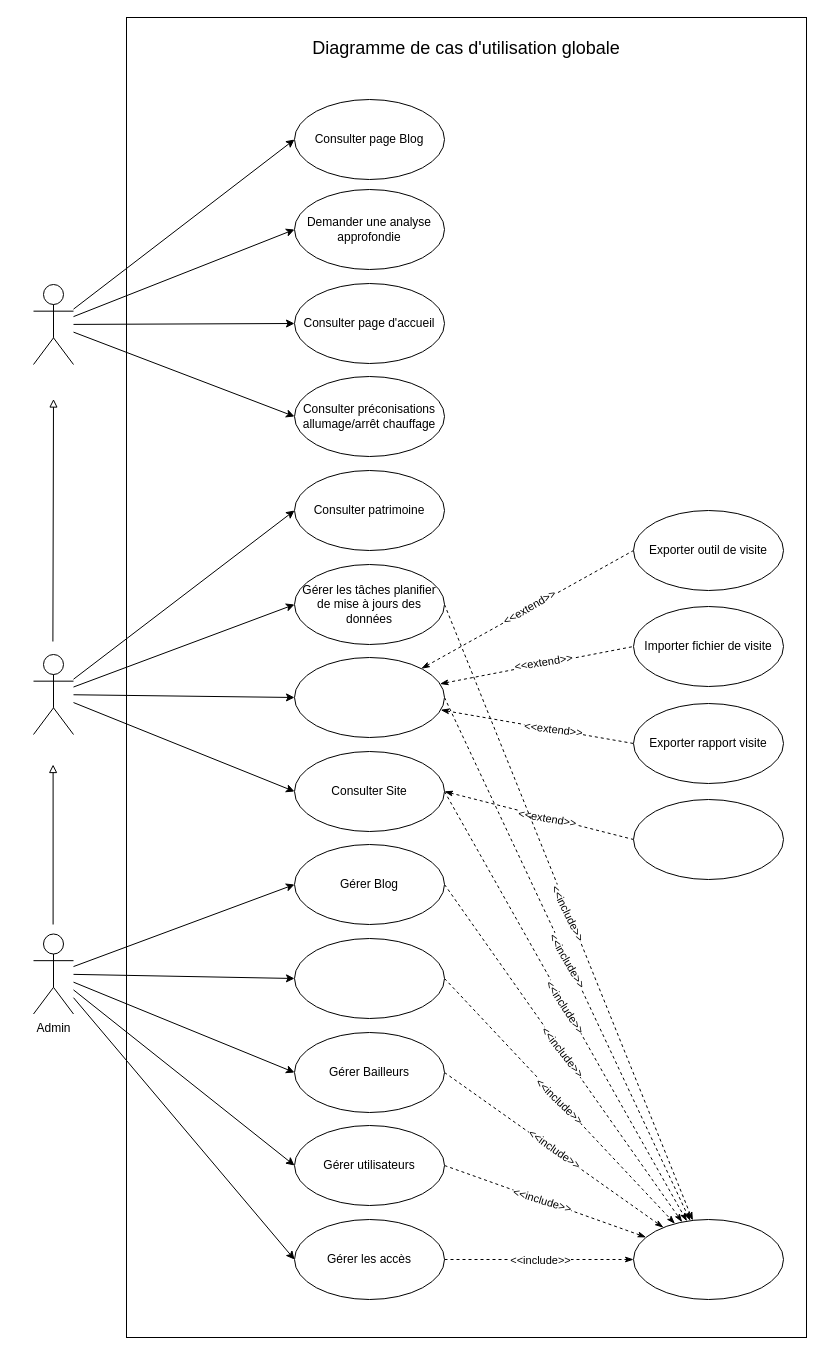
Some shapes in this 824 by 1355 pixel diagram are drawn without their labels. The shapes that lost their labels are listed below. From the top down, each one's box as (x1, y1, x2, y2) in pixels, then its label:
(32, 284, 74, 364): Visiteur
(32, 654, 74, 734): Collaborateur
(294, 656, 444, 738): Consulter Bailleur
(632, 798, 784, 880): Consulter liste des équipements
(294, 938, 444, 1018): Gérer Materiels
(632, 1218, 784, 1300): Authentification
